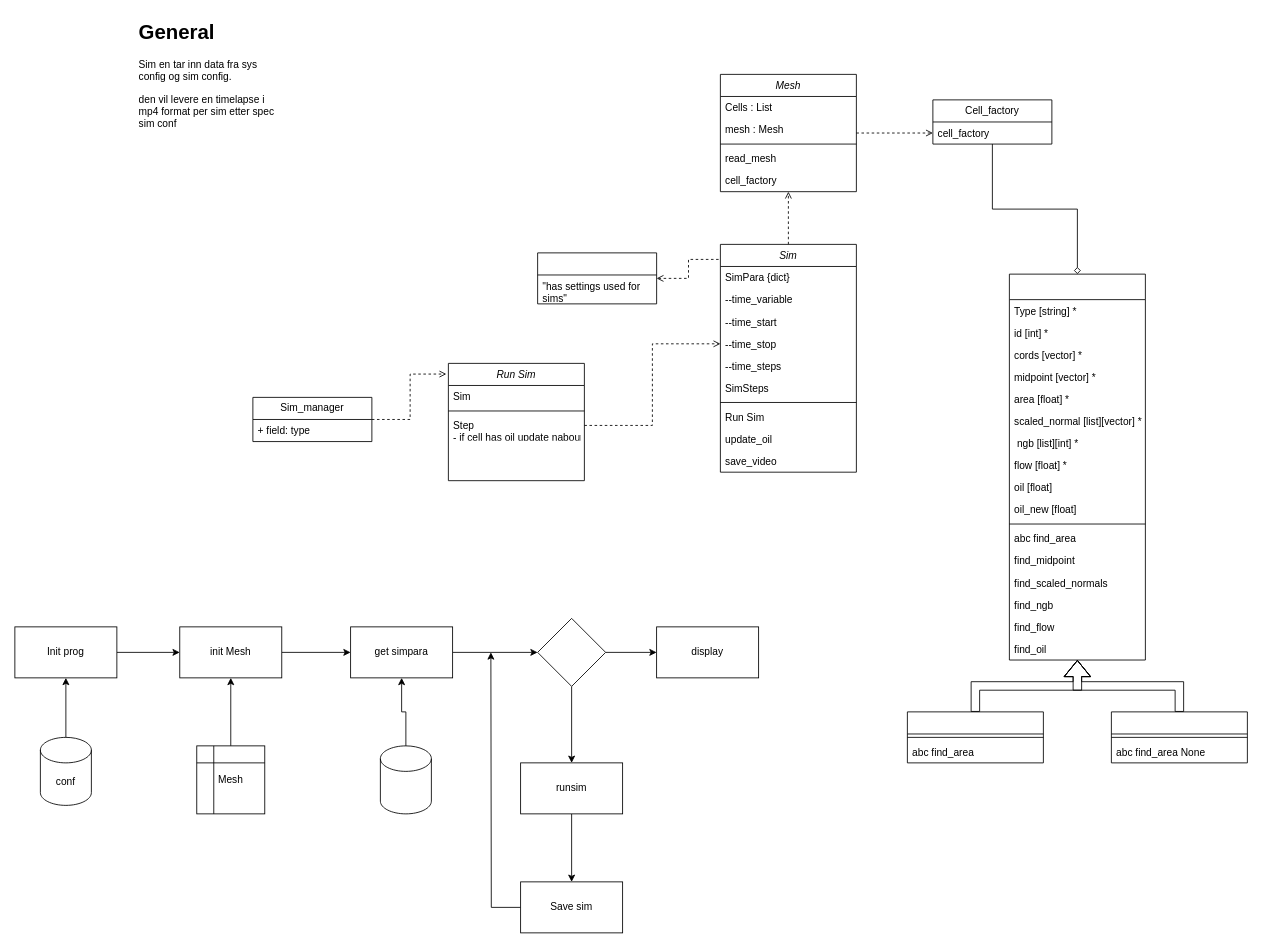
Some shapes in this 1262 by 948 pixel diagram are drawn without their labels. Here are the shapes that lost their labels. From the top down, the box of each, then its label:
(537, 252, 657, 304): config file
(1009, 273, 1145, 660): Cell
(537, 618, 606, 686): For Sim Conf
(907, 711, 1043, 763): Triangle
(1111, 711, 1247, 763): Line
(380, 745, 431, 814): simPara
